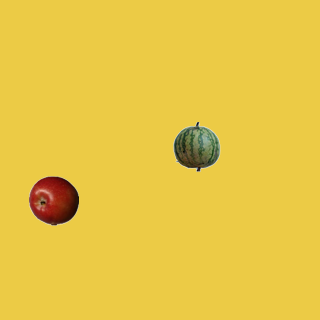Apple Braeburn: (28, 175, 78, 225)
Watermelon: (171, 121, 221, 171)
